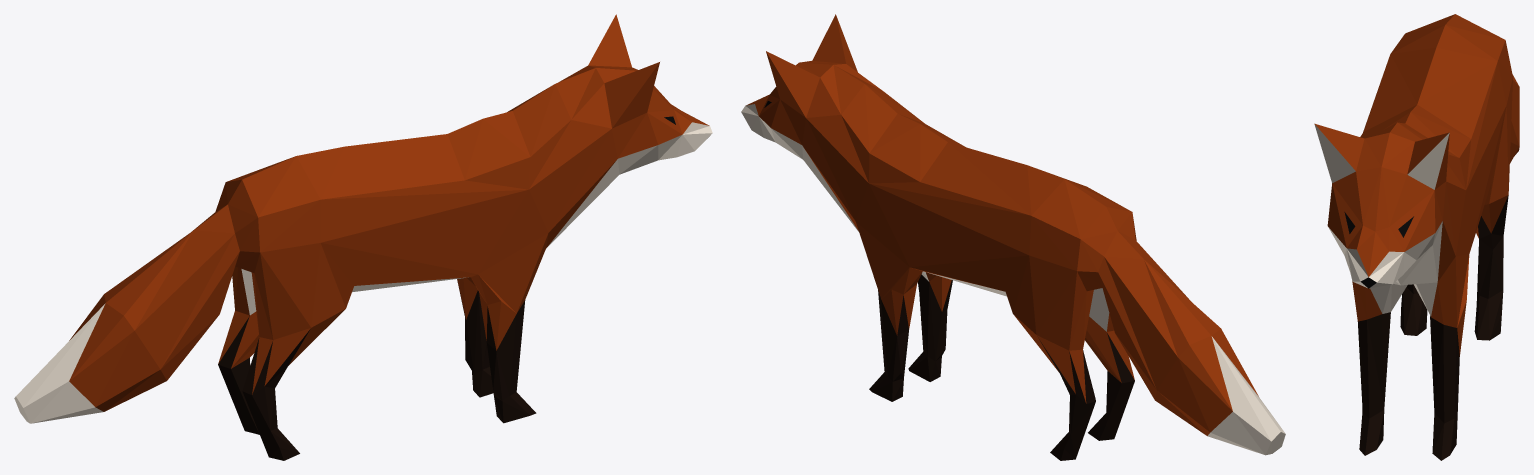
The model's file is fox.obj.
3 renders of one model, left to right at view 1: azimuth 30°, elevation 25°; view 2: azimuth 150°, elevation 25°; view 3: azimuth 270°, elevation 25°, orthographic. The views are drawn at different scales.
Parts seen in each view (by area): view 1: Cube_001_Cube.003; view 2: Cube_001_Cube.003; view 3: Cube_001_Cube.003.
Part boxes in pixels (x1=…): Cube_001_Cube.003: x1=14, y1=14, x2=712, y2=460; Cube_001_Cube.003: x1=741, y1=14, x2=1285, y2=460; Cube_001_Cube.003: x1=1314, y1=14, x2=1519, y2=460.
Bounding box in the file's own units: 5.27 × 2.72 × 1.3.
